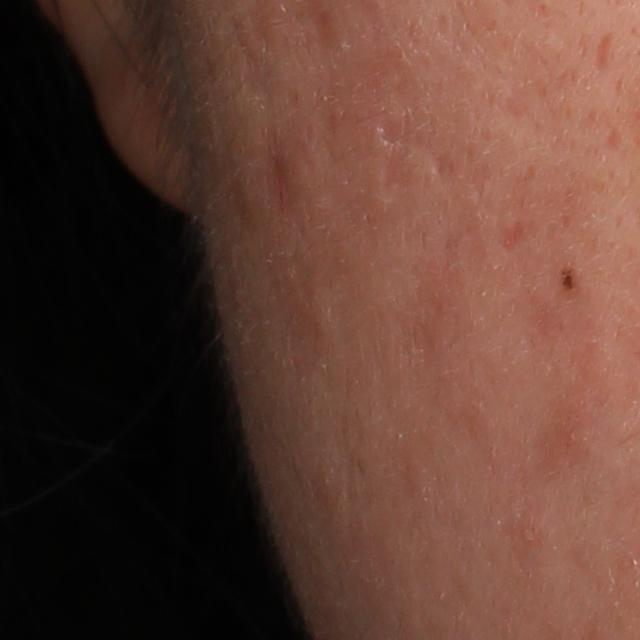atrophic_scar: (232, 16, 275, 114), (590, 22, 628, 73)
nevus: (557, 269, 578, 294)
